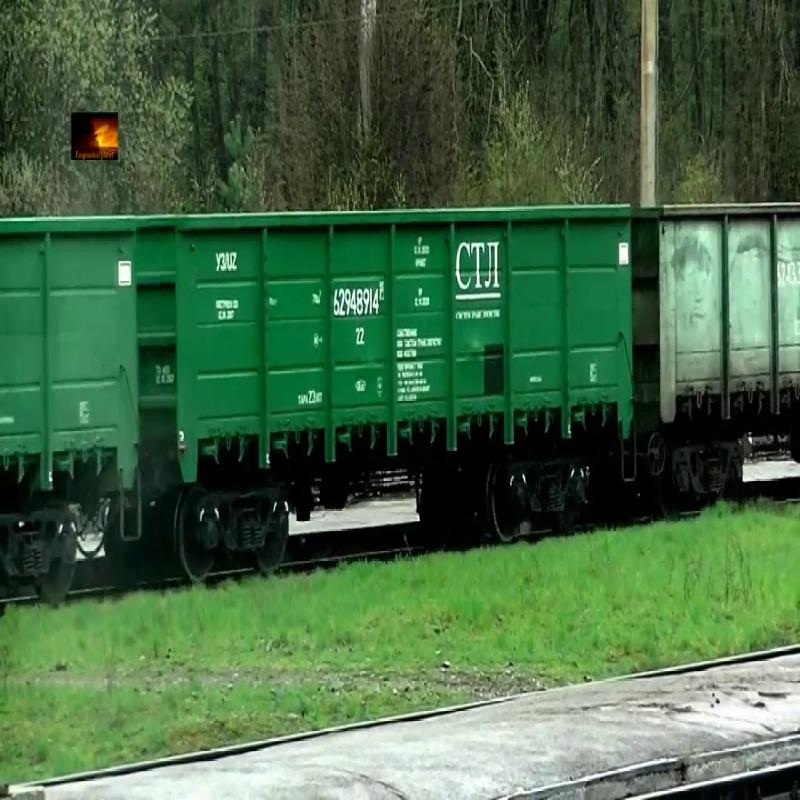train: (140, 211, 632, 490), (1, 213, 139, 510), (635, 200, 800, 435)
